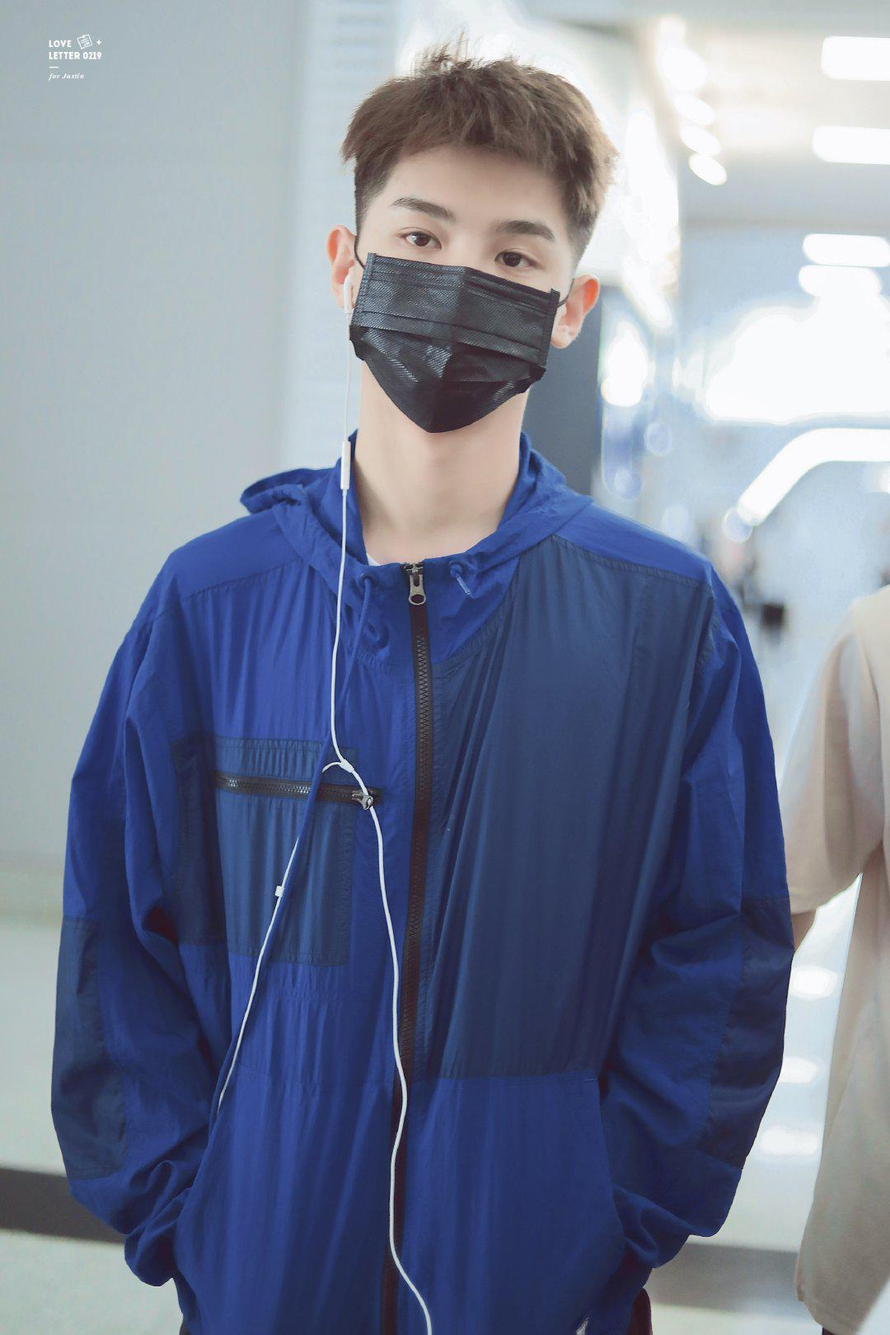OK: (363, 168, 558, 432)
